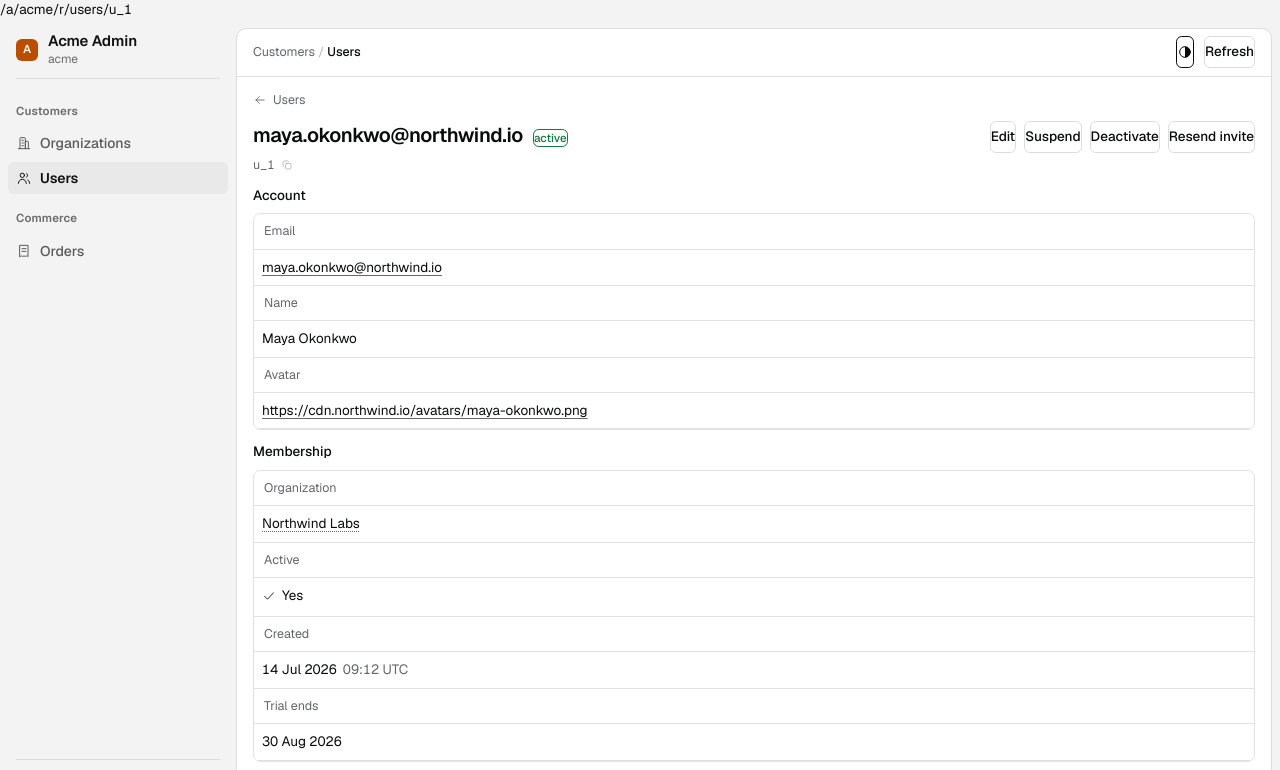
Test: the record page › actions › says so while it is running, and takes no second answer
Expected: the heading "maya.okonkwo@northwind.io" is shown, [253,121,523,150]
Click the button "Suspend". click: x=1053, y=137
box: [1024,121,1082,153]
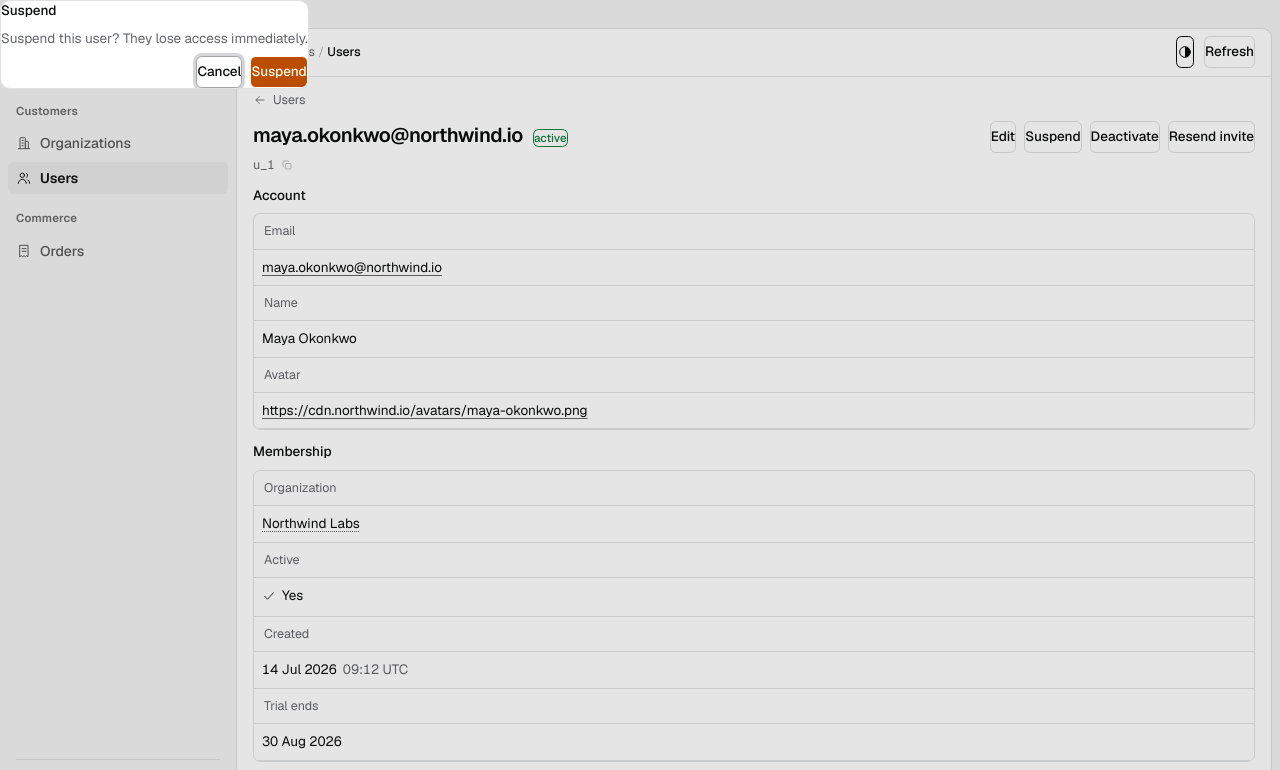
Click the button "Suspend". click: x=279, y=72
box: [250,56,308,88]
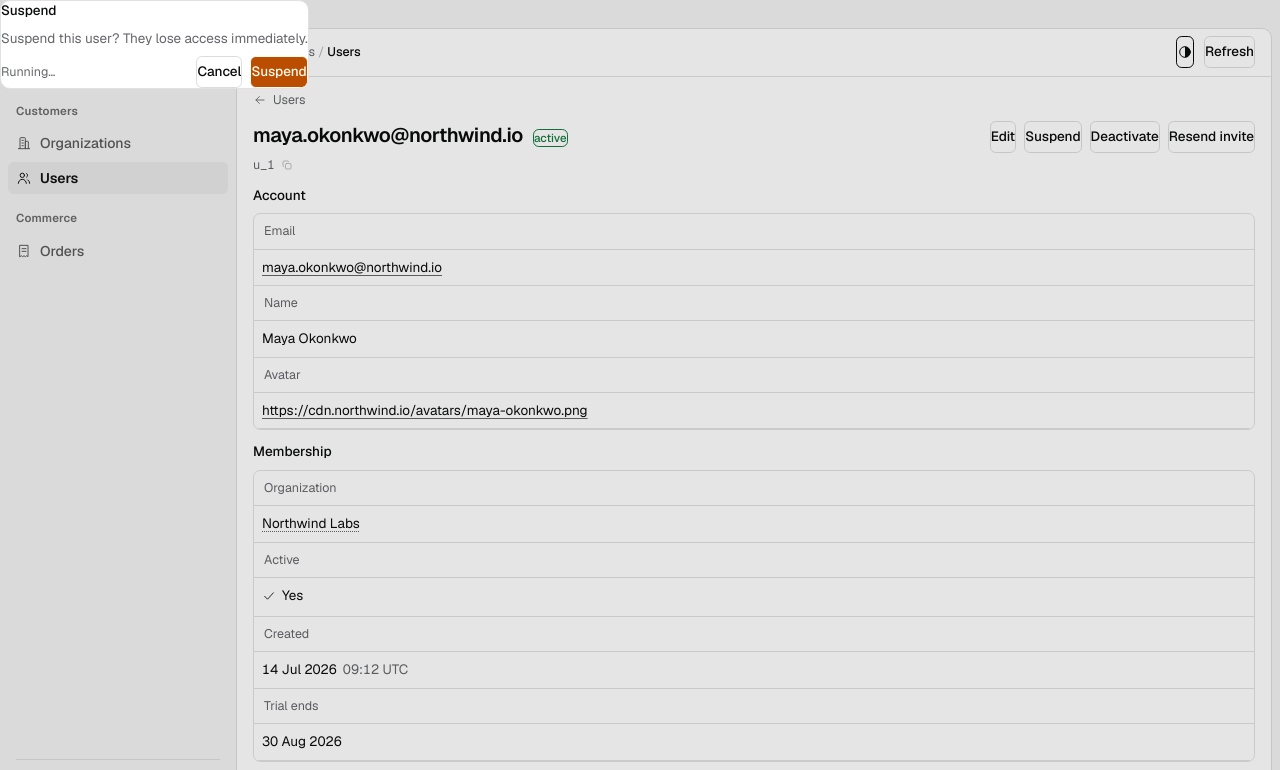
Expected: the button "Cancel" is disabled, [196,56,242,88]
Expected: the message reads "Running…", [1,63,56,80]
